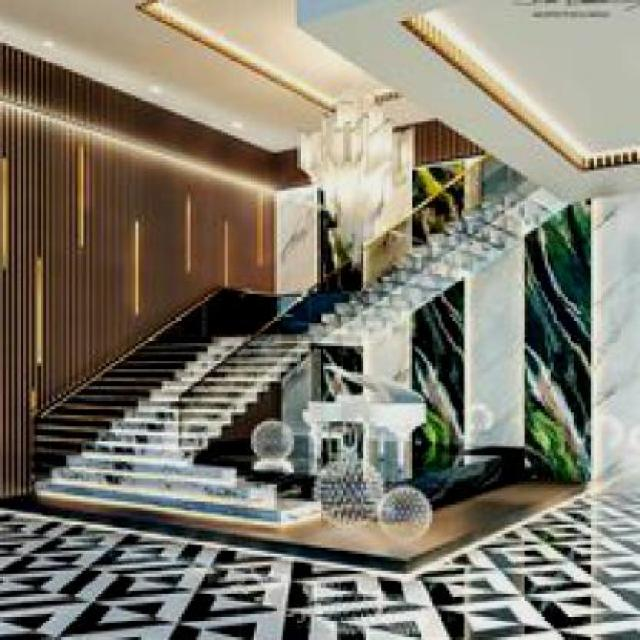stair: (46, 292, 326, 539)
